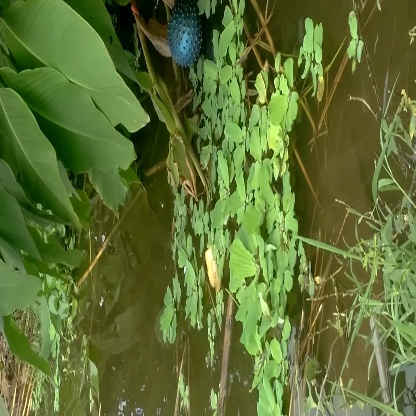ball: (163, 4, 207, 68)
